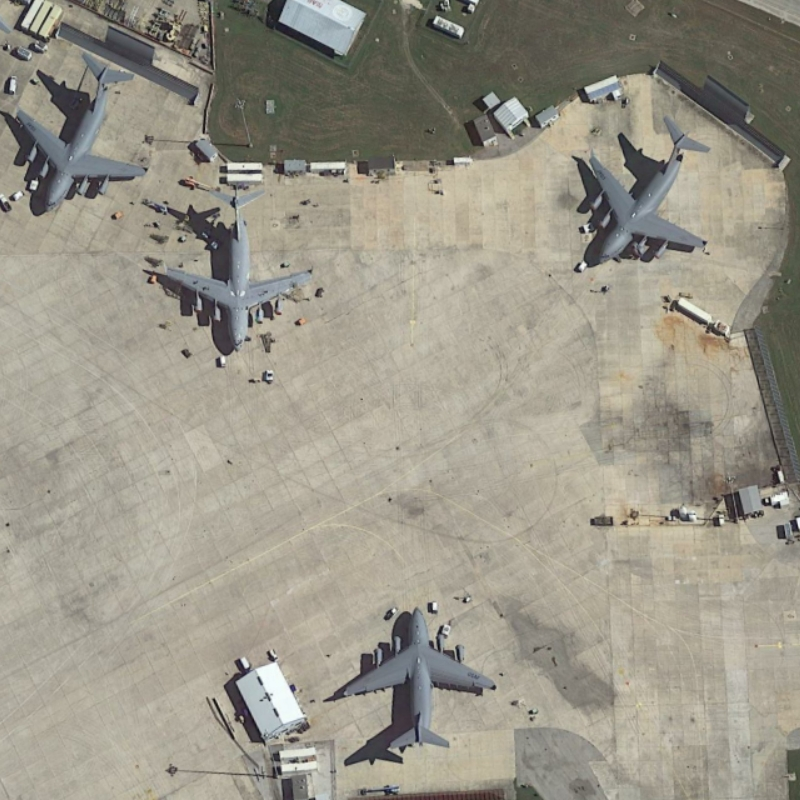A3: (142, 175, 322, 361), (328, 596, 507, 760), (7, 47, 154, 223), (572, 104, 723, 270)
